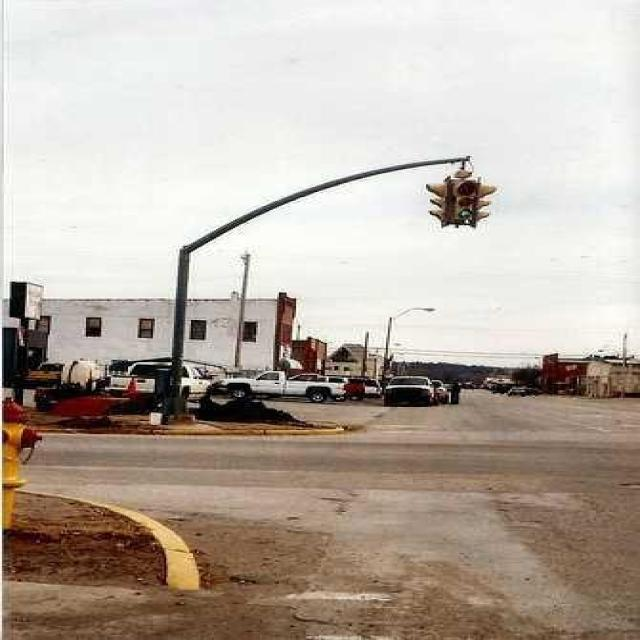Traffic Light -Green-: (450, 175, 479, 230)
